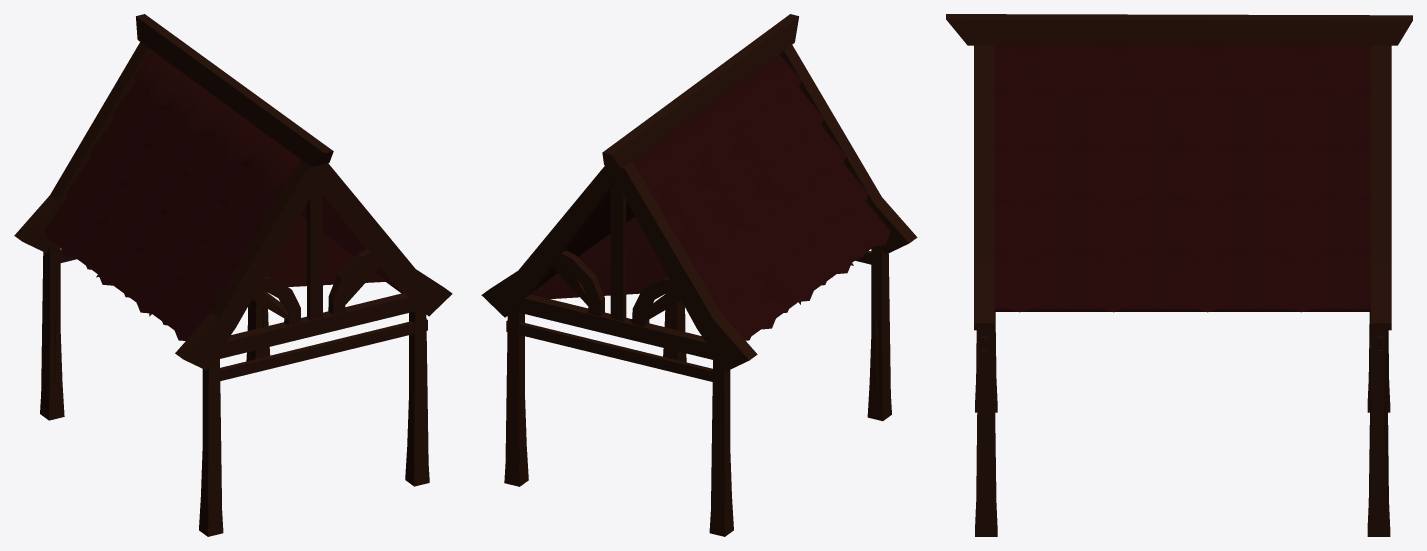
Rendered from Gazebo.fbx.
The picture shows the model from 3 angles, left to right: view 1: azimuth 30°, elevation 25°; view 2: azimuth 150°, elevation 25°; view 3: azimuth 270°, elevation 25°; orthographic projection. The views are drawn at different scales.
Parts seen in each view (by area): view 1: High_Gazebo, Low_Gazebo; view 2: High_Gazebo, Low_Gazebo; view 3: High_Gazebo, Low_Gazebo.
Part boxes in pixels (x1,y1,x2,y2): High_Gazebo: (14, 14, 452, 536); Low_Gazebo: (41, 95, 428, 515); High_Gazebo: (481, 14, 917, 536); Low_Gazebo: (505, 126, 890, 516); High_Gazebo: (946, 14, 1412, 536); Low_Gazebo: (976, 93, 1388, 510).
Size of the model in its own units: 104 by 135 by 126.
